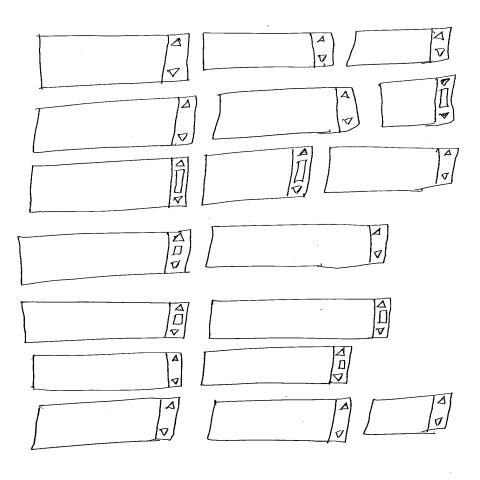Textarea: (30, 94, 198, 154), (16, 230, 193, 286), (26, 155, 190, 213), (203, 222, 389, 269), (38, 32, 190, 88), (28, 395, 181, 450), (208, 296, 393, 340), (211, 86, 360, 140), (18, 300, 191, 343), (199, 145, 314, 206), (206, 396, 351, 444), (322, 145, 459, 193), (199, 344, 353, 386), (31, 350, 183, 392), (201, 31, 336, 70), (343, 25, 453, 67), (376, 73, 457, 127), (362, 391, 454, 435)
